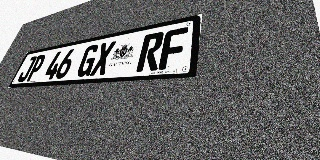4: (42, 50, 66, 80)
6: (54, 48, 78, 79)
F: (158, 27, 188, 70)
G: (75, 44, 101, 77)
J: (16, 56, 38, 82)
P: (25, 54, 47, 81)
R: (136, 31, 165, 72)
X: (90, 41, 116, 76)
